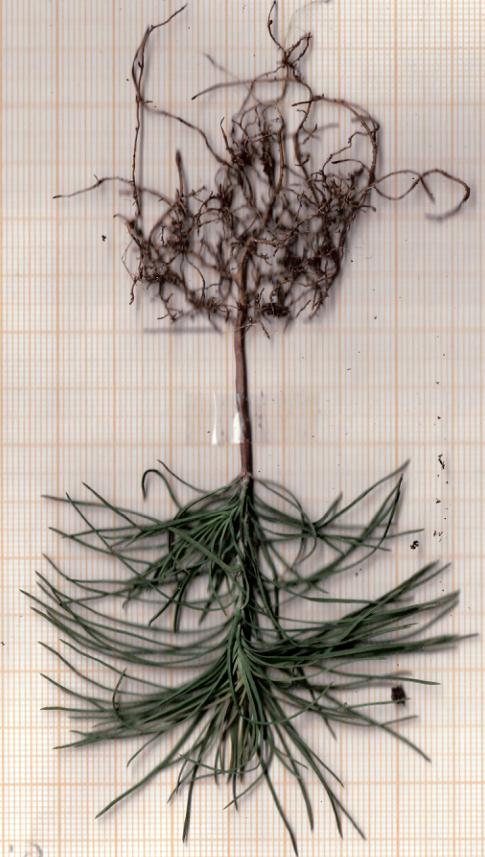flower: (2, 470, 485, 857)
root: (41, 1, 485, 336)
stem: (220, 332, 261, 477)
